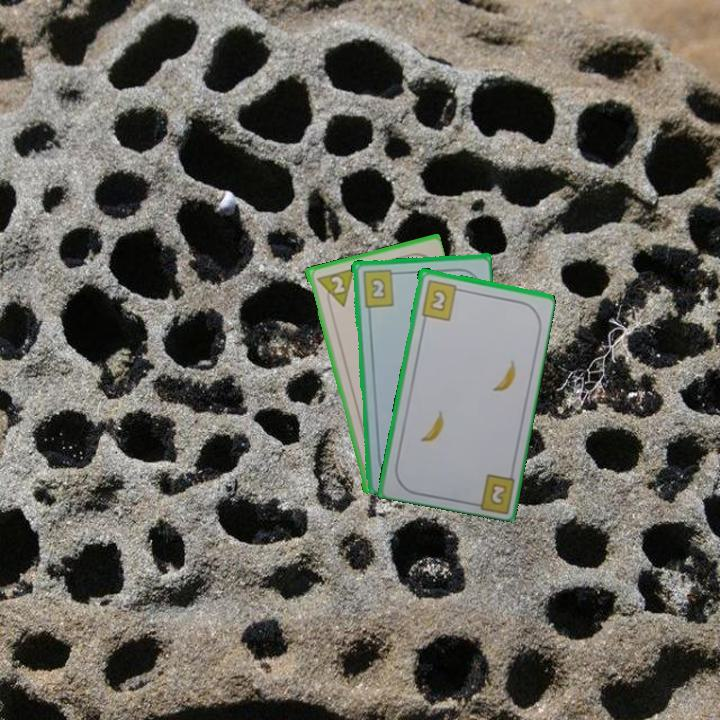2b: (418, 276, 465, 322), (359, 266, 401, 309), (486, 479, 509, 508)
2p: (313, 265, 356, 312)
